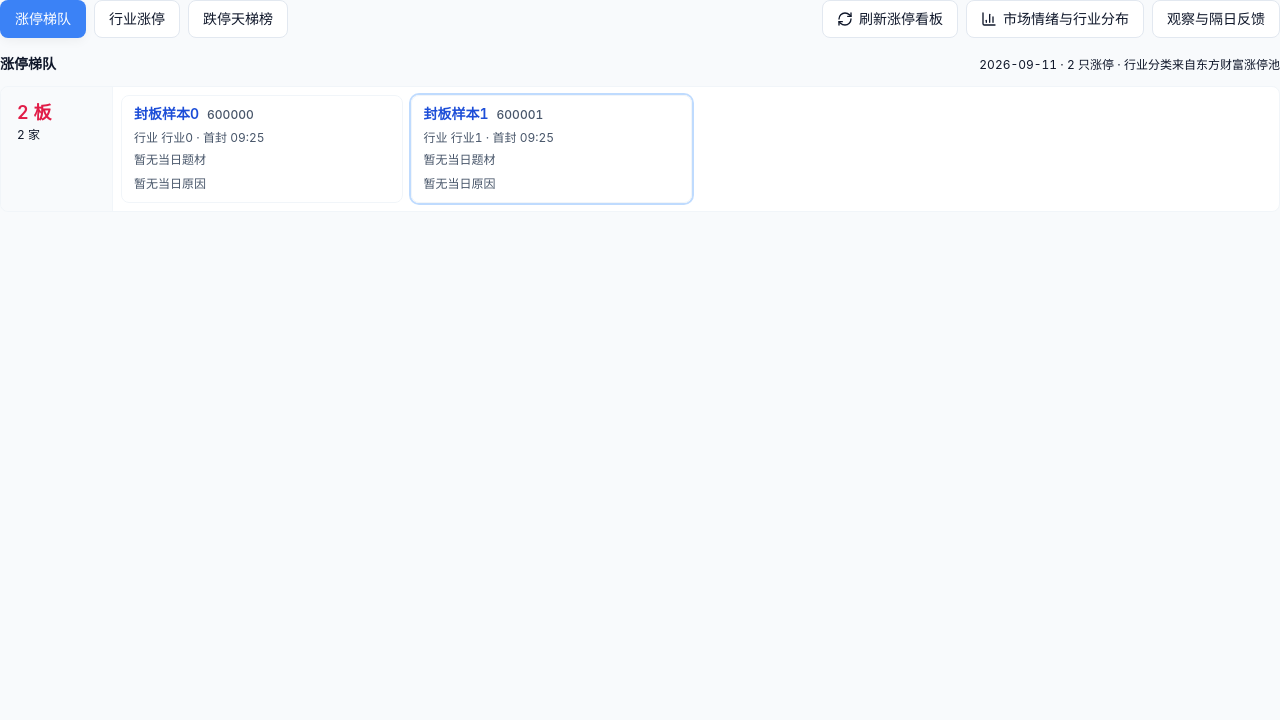
it: LimitUpBoardPanel independent breadth loading › opens the existing stock chart for the clicked ladder entry
Click the button "封板样本1 600001 行业 行业1 · 首封 09:25 暂无当日题材 暂无当日原因": (456, 114) [410,95,692,202]
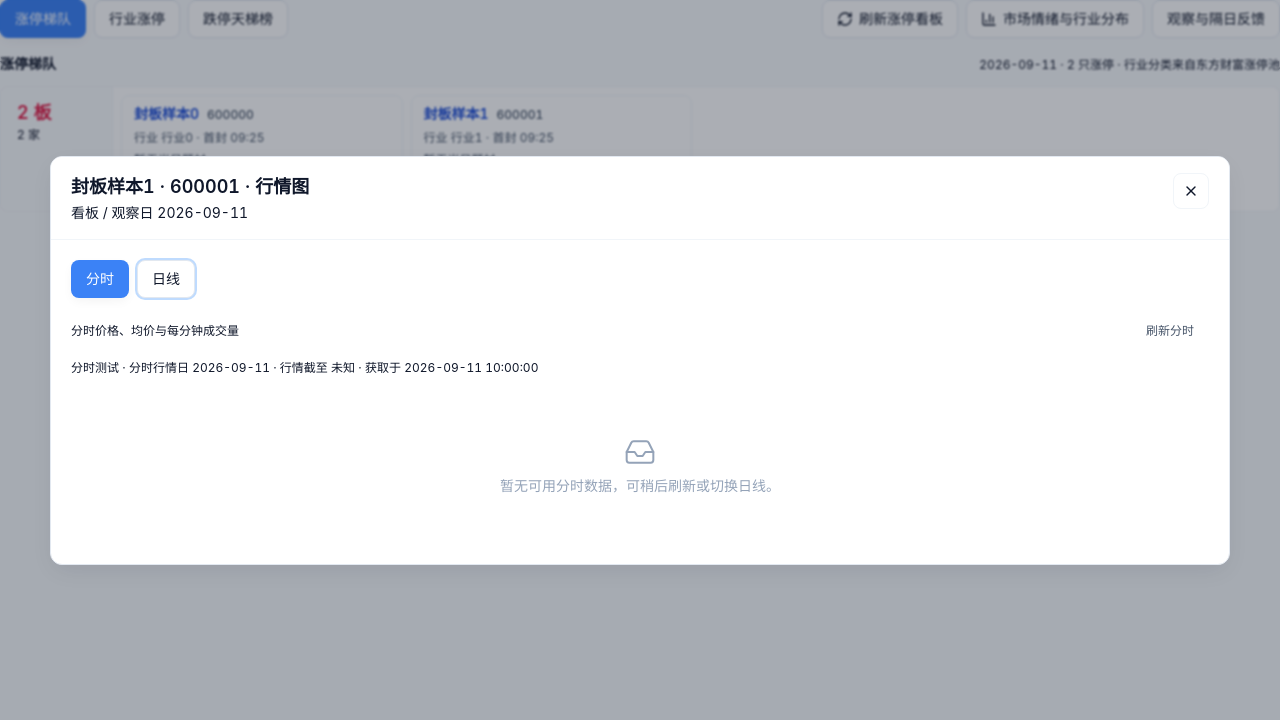
Expected: the button "日线" is shown
Expected: the button "日线" is enabled
Click the button "日线": (166, 278) [137,260,195,298]
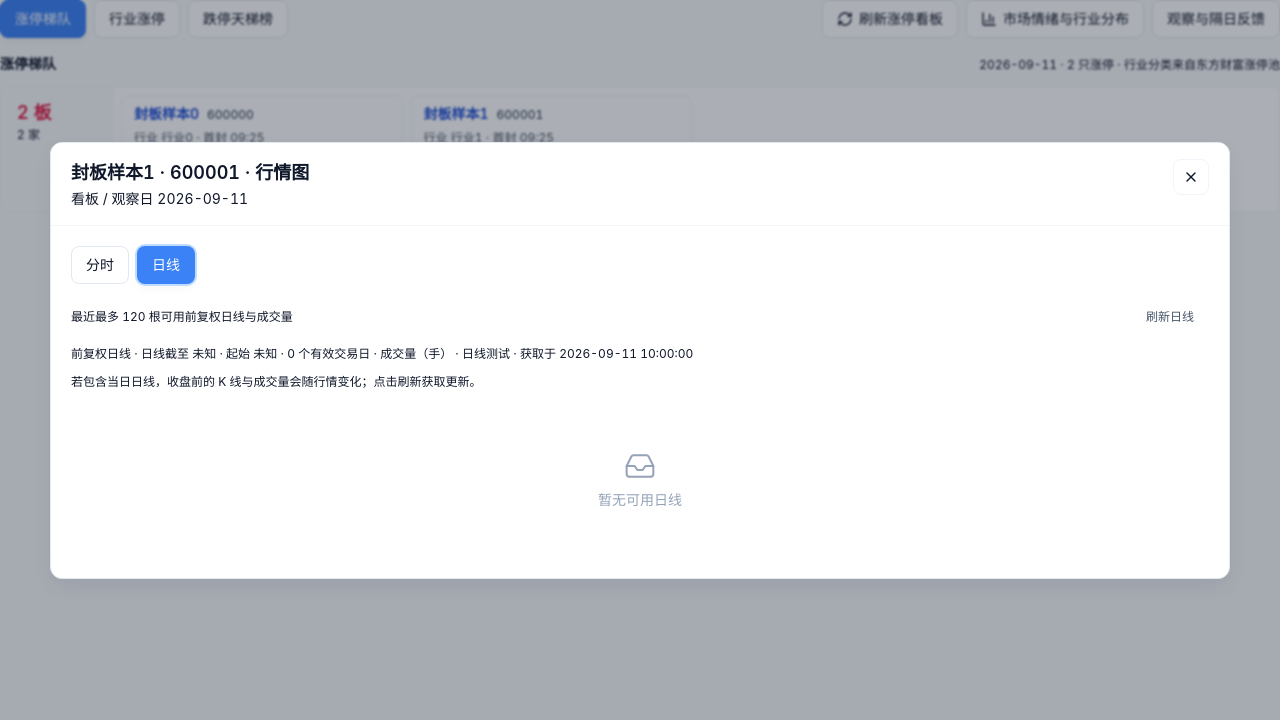
Expected: the element named "日线行情" is shown, [71,300,1209,558]
Click the button named "关闭详情": (1191, 176) [1173,158,1209,194]
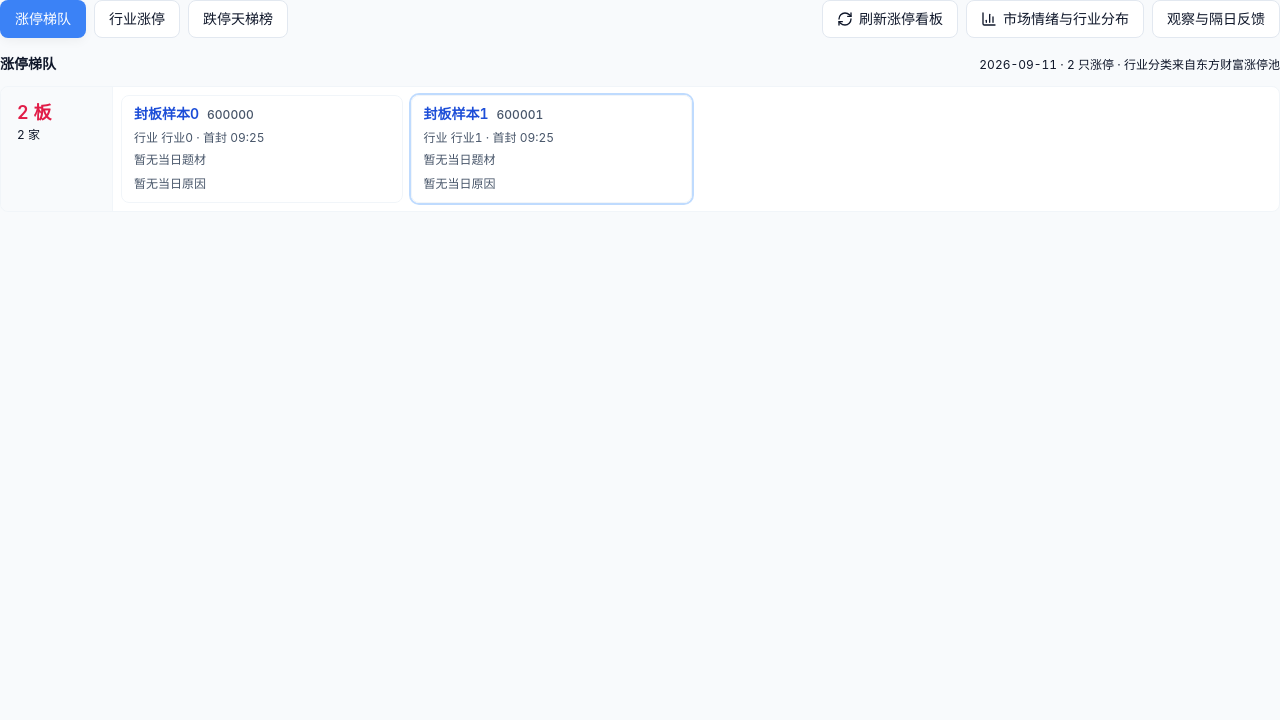
Expected: the dialog is gone
